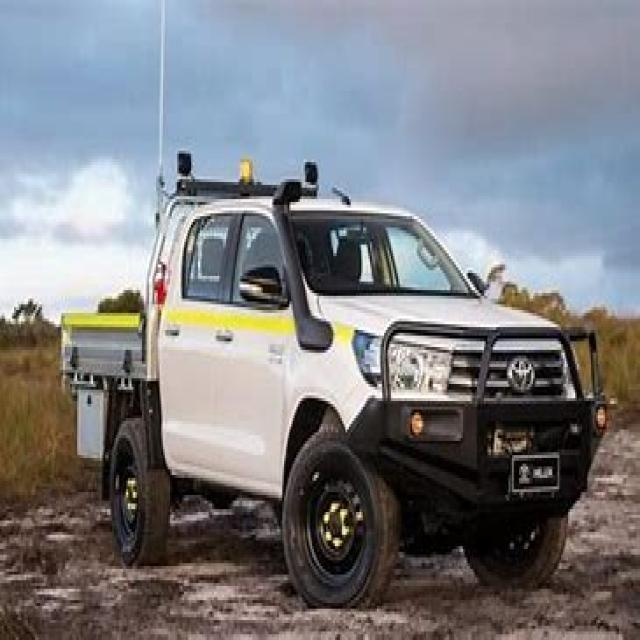light_vehicle: (48, 151, 610, 608)
